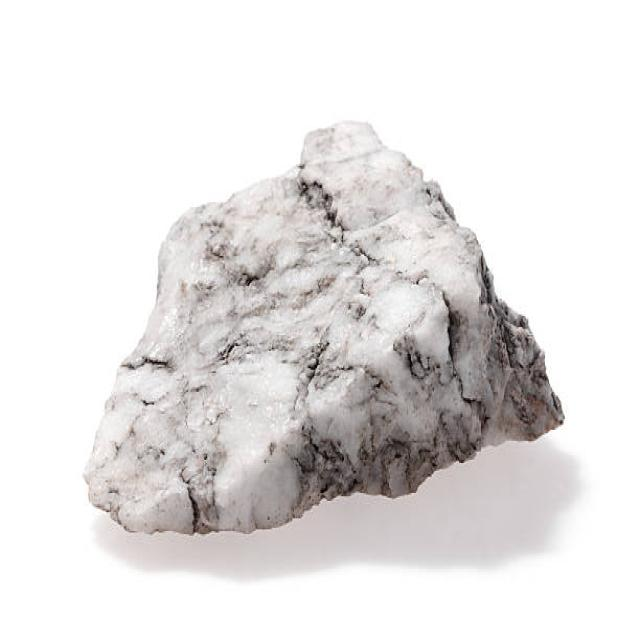Metamorphic: (78, 106, 560, 545)
